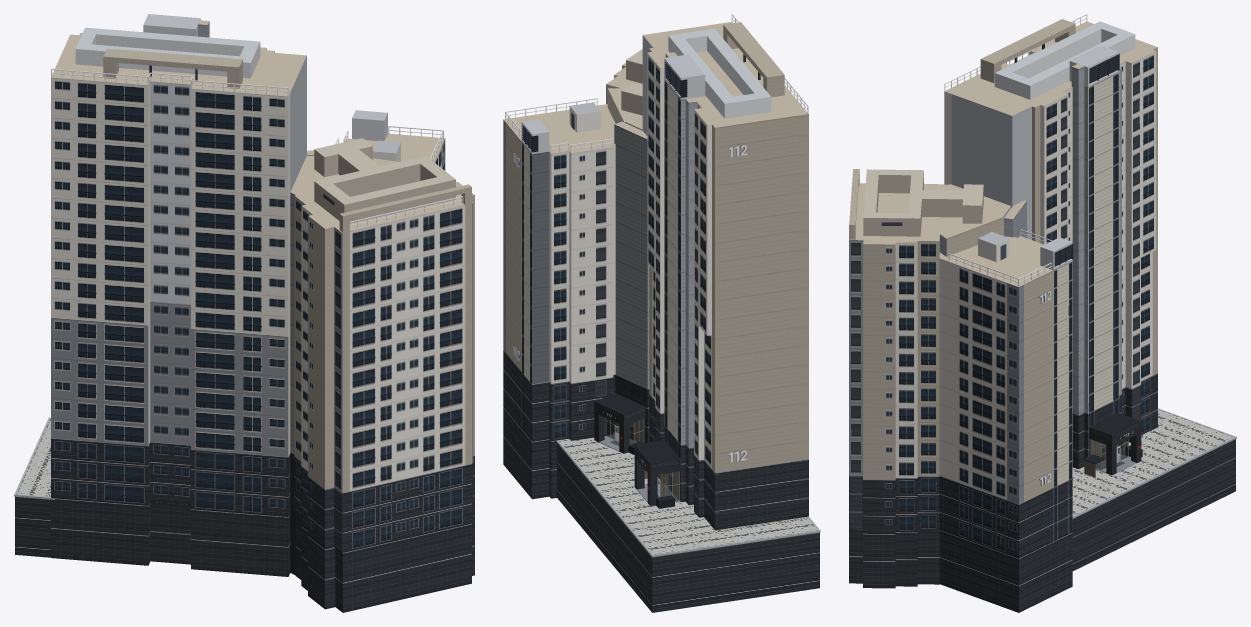
File: place_금파힐112.glb
The picture shows the model from 3 angles, left to right: view 1: azimuth 30°, elevation 25°; view 2: azimuth 150°, elevation 25°; view 3: azimuth 270°, elevation 25°; orthographic projection. The views are drawn at different scales.
Parts seen in each view (by area): view 1: WingA_NW_21F, WingC_South_16F, Basement_B1B2_17, Basement_B1B2_2, Basement_B1B2_1, WingB_NE_15F_118sqm, KumhoParkHills_112, Basement_B1B2_0, Walkway_1F_RetainingBase, Basement_B1B2_18, Walkway_1F_Deck; view 2: WingA_NW_21F, WingB_NE_15F_118sqm, Walkway_1F_RetainingBase, KumhoParkHills_112, Walkway_1F_Deck, Basement_B1B2_16, WingC_South_16F, Basement_B1B2_12, Basement_B1B2_14; view 3: WingA_NW_21F, WingB_NE_15F_118sqm, WingC_South_16F, Walkway_1F_RetainingBase, Basement_B1B2_12, Walkway_1F_Deck, KumhoParkHills_112, Basement_B1B2_17, Basement_B1B2_19, Basement_B1B2_21, Basement_B1B2_16.
Boxes of the visible parts, <box> form: WingA_NW_21F: <box>51,14,306,516</box>; WingC_South_16F: <box>294,138,474,552</box>; Basement_B1B2_17: <box>295,517,471,612</box>; Basement_B1B2_2: <box>191,509,290,576</box>; Basement_B1B2_1: <box>51,498,150,565</box>; WingB_NE_15F_118sqm: <box>335,110,445,170</box>; KumhoParkHills_112: <box>290,150,398,514</box>; Basement_B1B2_0: <box>150,502,190,564</box>; Walkway_1F_RetainingBase: <box>15,496,50,557</box>; Basement_B1B2_18: <box>308,536,335,609</box>; Walkway_1F_Deck: <box>14,418,50,499</box>; WingA_NW_21F: <box>634,14,808,530</box>; WingB_NE_15F_118sqm: <box>503,98,615,441</box>; Walkway_1F_RetainingBase: <box>557,443,819,612</box>; KumhoParkHills_112: <box>594,88,649,454</box>; Walkway_1F_Deck: <box>556,437,820,557</box>; Basement_B1B2_16: <box>521,429,549,499</box>; WingC_South_16F: <box>606,49,642,115</box>; Basement_B1B2_12: <box>503,407,521,485</box>; Basement_B1B2_14: <box>549,439,556,498</box>; WingA_NW_21F: <box>944,14,1157,477</box>; WingB_NE_15F_118sqm: <box>939,229,1073,558</box>; WingC_South_16F: <box>849,169,983,534</box>; Walkway_1F_RetainingBase: <box>1072,439,1235,570</box>; Basement_B1B2_12: <box>939,530,1053,612</box>; Walkway_1F_Deck: <box>1072,409,1236,518</box>; KumhoParkHills_112: <box>906,184,1026,256</box>; Basement_B1B2_17: <box>849,529,939,584</box>; Basement_B1B2_19: <box>863,533,895,588</box>; Basement_B1B2_21: <box>895,532,917,586</box>; Basement_B1B2_16: <box>1053,532,1072,595</box>.
Size of the model in its own units: 52.83 by 66.55 by 51.47.
Materials: 202 (126 with a texture image).
